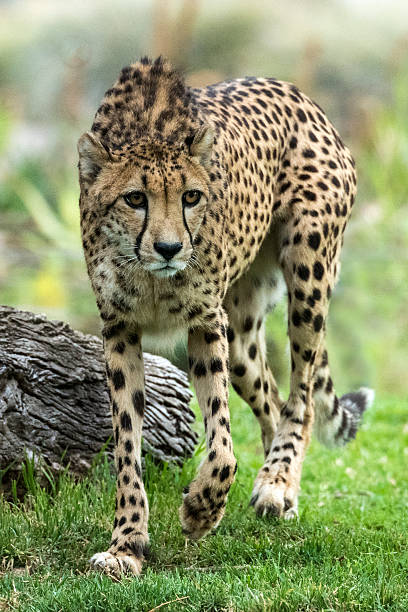cheetah: (56, 117, 253, 288)
